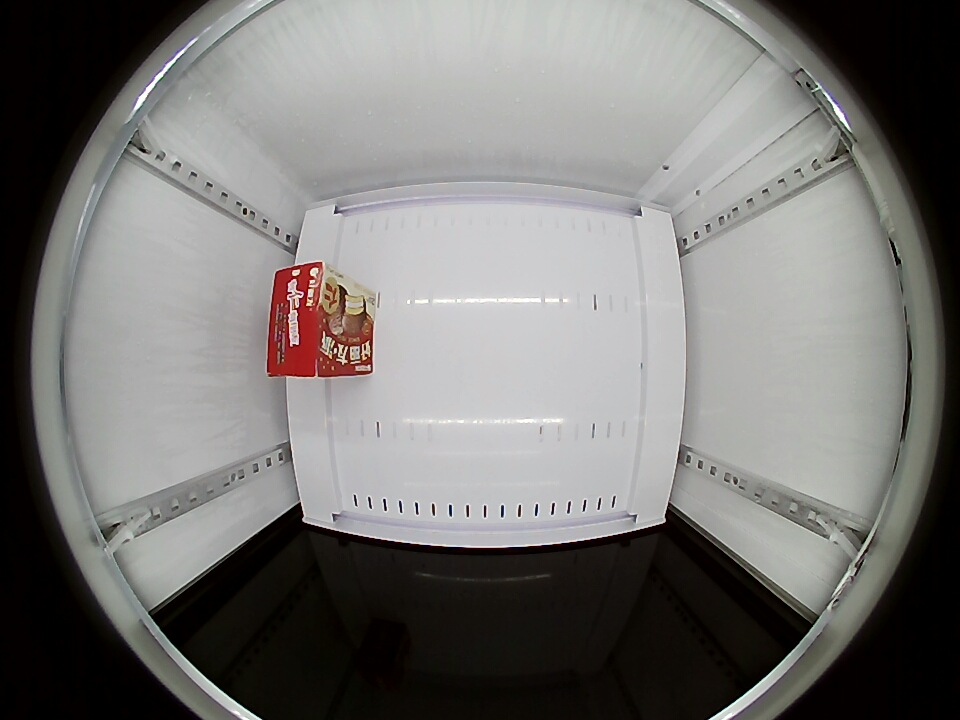haoliyou: (267, 261, 354, 377)
